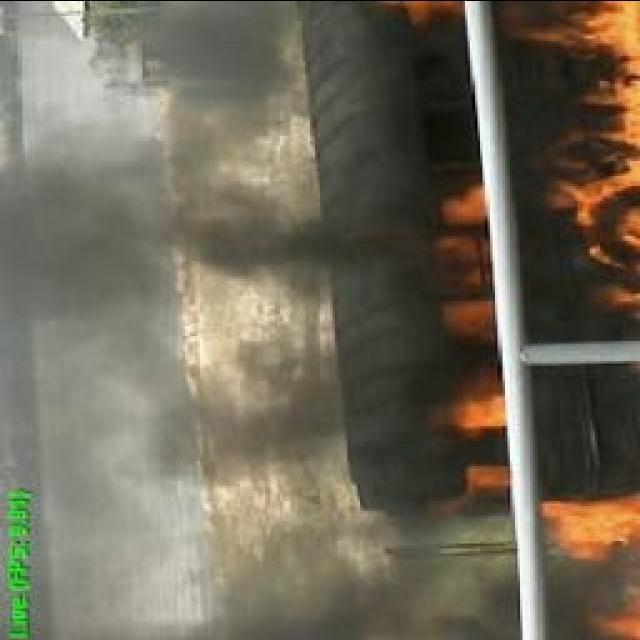Fire: (537, 3, 640, 330), (448, 192, 494, 487), (561, 473, 637, 636)
